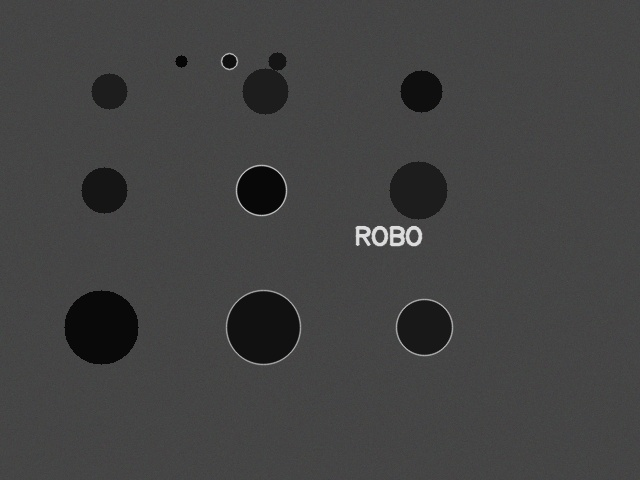hole: (64, 290, 138, 364), (226, 290, 300, 364), (389, 161, 447, 219), (396, 299, 452, 355), (236, 165, 286, 215), (242, 68, 288, 114), (81, 167, 127, 213), (400, 70, 442, 112), (91, 73, 127, 109), (268, 52, 286, 70), (221, 53, 237, 69), (175, 55, 187, 67)
